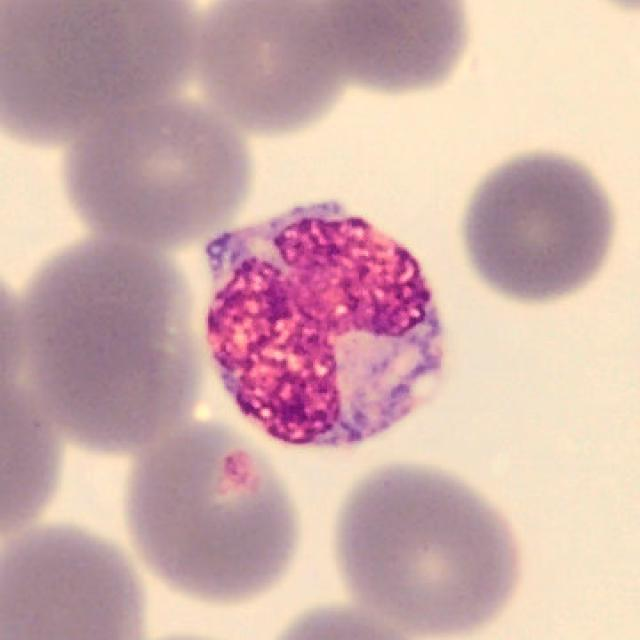Monocito: (206, 201, 446, 448)
